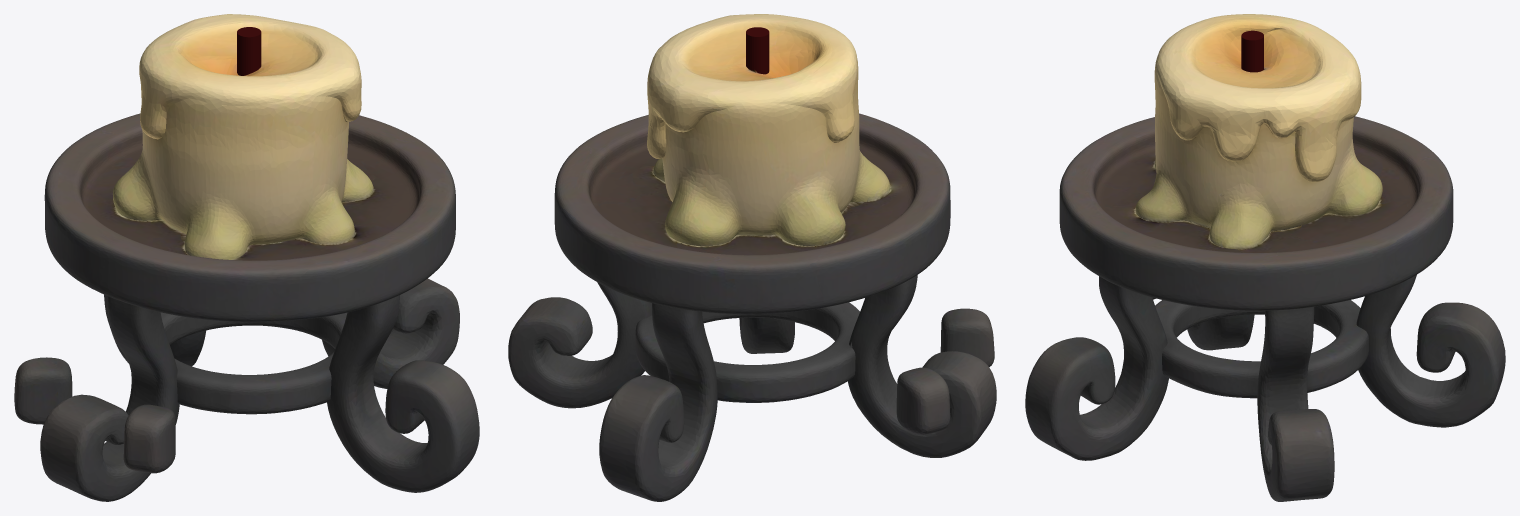
File: candle_2.glb
The picture shows the model from 3 angles, left to right: view 1: azimuth 30°, elevation 25°; view 2: azimuth 150°, elevation 25°; view 3: azimuth 270°, elevation 25°; orthographic projection. The views are drawn at different scales.
Parts seen in each view (by area): view 1: tripo_node_2075dc06-560d-4015-952b-298fbb4557da, Cylinder.002; view 2: tripo_node_2075dc06-560d-4015-952b-298fbb4557da, Cylinder.002; view 3: tripo_node_2075dc06-560d-4015-952b-298fbb4557da, Cylinder.002.
Boxes of the visible parts, left/top/right/bottom form: tripo_node_2075dc06-560d-4015-952b-298fbb4557da: left=14, top=14, right=479, bottom=501; Cylinder.002: left=237, top=27, right=261, bottom=75; tripo_node_2075dc06-560d-4015-952b-298fbb4557da: left=508, top=14, right=996, bottom=501; Cylinder.002: left=746, top=27, right=769, bottom=74; tripo_node_2075dc06-560d-4015-952b-298fbb4557da: left=1025, top=14, right=1505, bottom=501; Cylinder.002: left=1241, top=30, right=1263, bottom=72.
Bounding box in the file's own units: 0.8937 × 0.7778 × 0.8867.
Materials: 2 (1 with a texture image).
